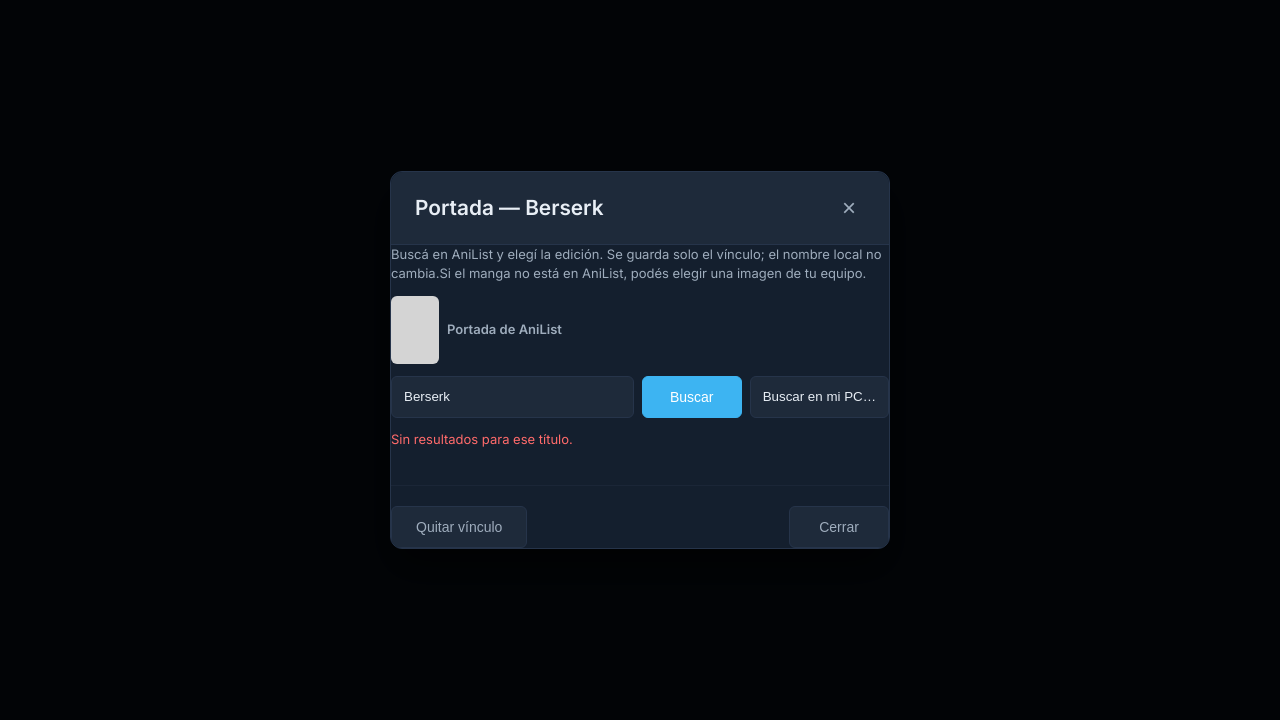
LinkCoverModal › muestra un error si falla el desvincular
Click the button "Quitar vínculo": (459, 527) [391, 506, 527, 548]
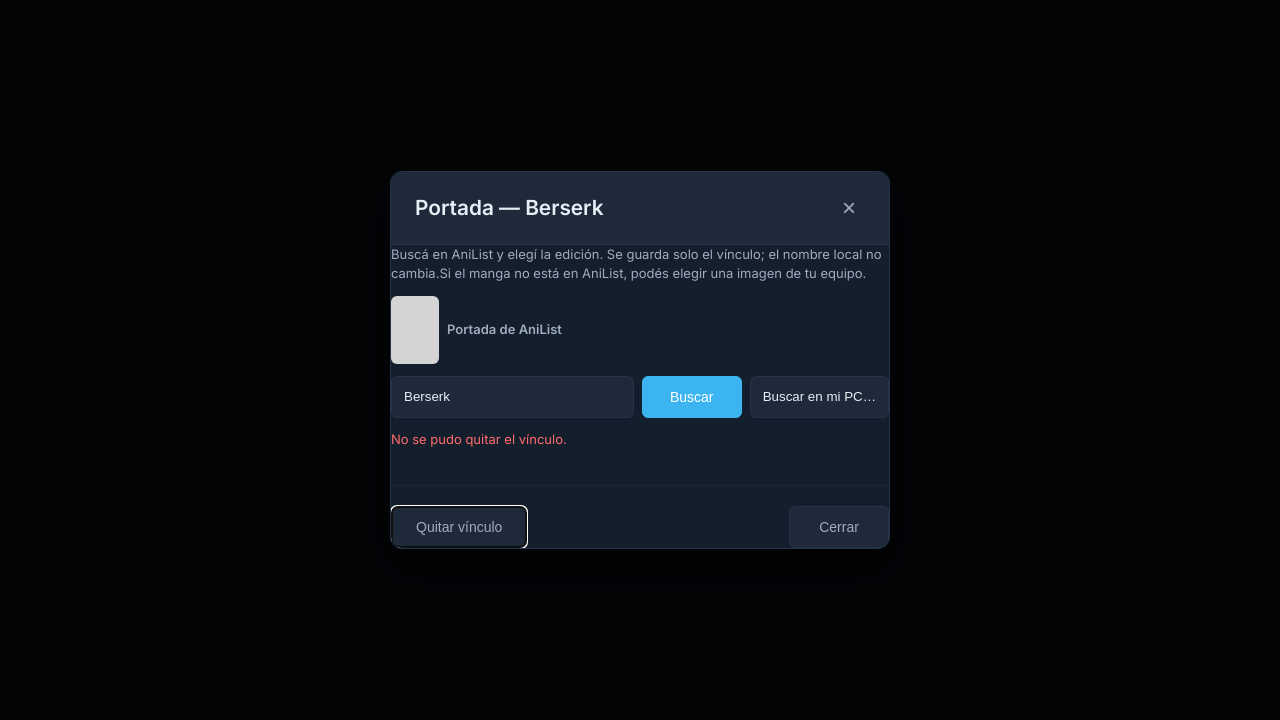
Result: the text "No se pudo quitar el vínculo." is shown at [391, 431, 567, 447]
